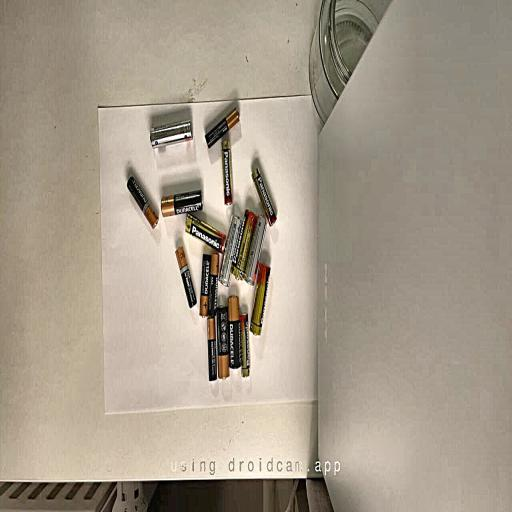DuracellAA: (161, 189, 203, 216), (228, 295, 241, 368), (217, 306, 229, 378)
DuracellAAA: (127, 176, 158, 228), (205, 108, 239, 148), (175, 246, 196, 308), (208, 252, 219, 316), (207, 316, 217, 381), (200, 254, 210, 316)
PanasonicAA: (232, 210, 256, 279), (250, 262, 270, 335)
PanasonicAAA: (252, 166, 276, 225), (222, 140, 233, 205), (240, 313, 250, 377)
RainbowAA: (218, 215, 241, 286), (244, 215, 267, 285), (150, 119, 192, 147)
